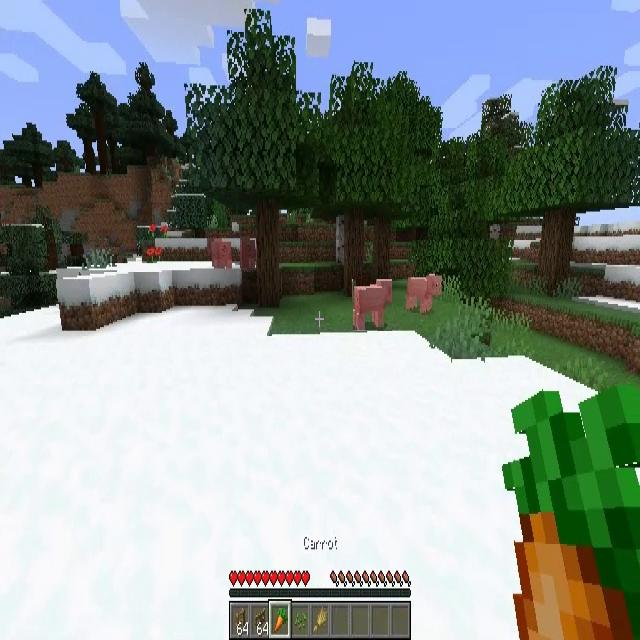pig: (353, 279, 392, 331), (406, 272, 442, 314), (211, 241, 232, 267), (240, 236, 256, 268)
